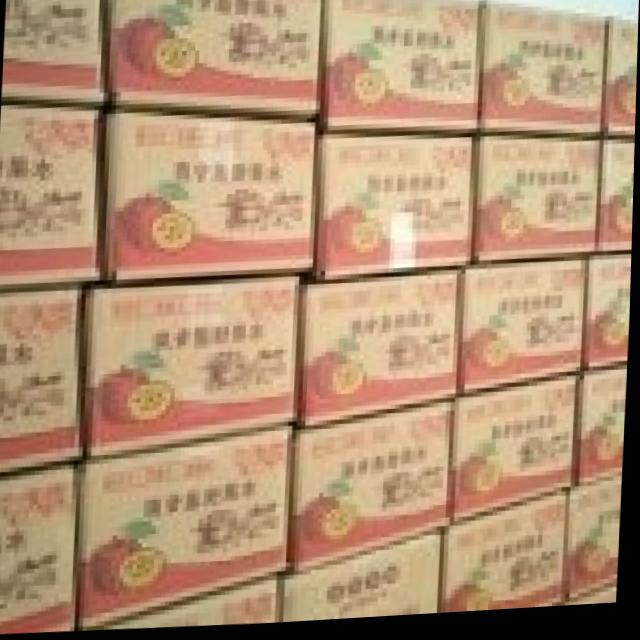box: (82, 432, 294, 627), (84, 281, 301, 462), (109, 109, 318, 283), (294, 408, 456, 573), (108, 0, 321, 124), (302, 276, 461, 433), (313, 140, 476, 286), (319, 0, 476, 138), (0, 105, 106, 289), (475, 2, 605, 145), (457, 384, 581, 528), (461, 266, 589, 399), (473, 142, 601, 268), (0, 292, 85, 475), (446, 498, 570, 617), (0, 462, 82, 630), (282, 539, 445, 621), (6, 0, 107, 107), (99, 581, 283, 627), (566, 484, 625, 613), (577, 369, 628, 493), (587, 262, 633, 377), (593, 149, 636, 264), (601, 25, 639, 146), (565, 590, 620, 613)
